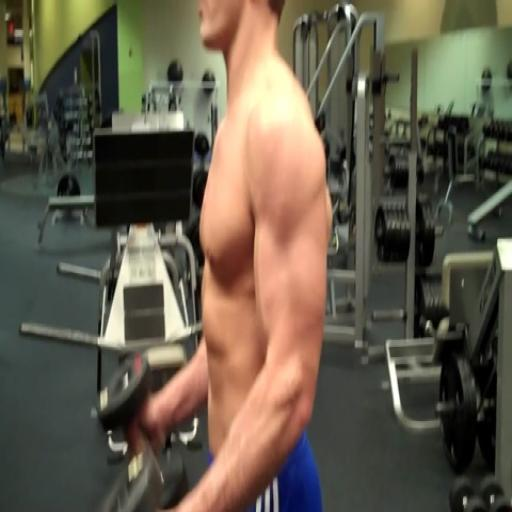exercise: (124, 0, 335, 511)
